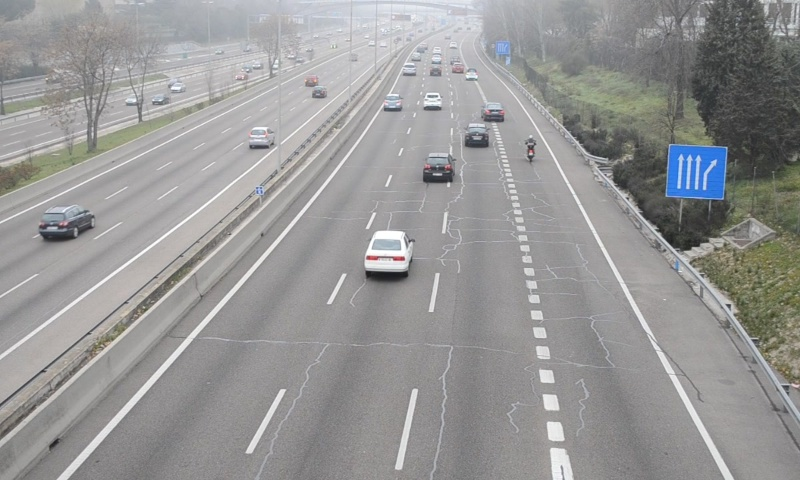car: (365, 230, 414, 273), (424, 152, 452, 180), (464, 122, 488, 146), (482, 102, 504, 122), (423, 92, 444, 109), (383, 93, 402, 111), (402, 61, 416, 76)
motorcycle: (525, 135, 538, 164)
